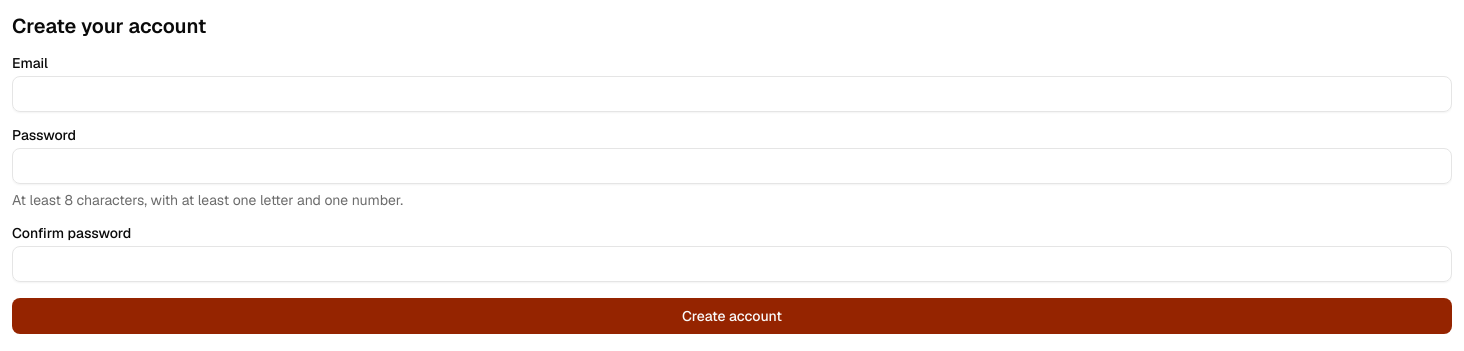
it: RegisterForm › shows the check-your-email screen with a resend-cooldown note when signUp is rate-limited on resend
In the field labelled "Email": (732, 94) [12,76,1452,112], type "recently-registered@example.com"
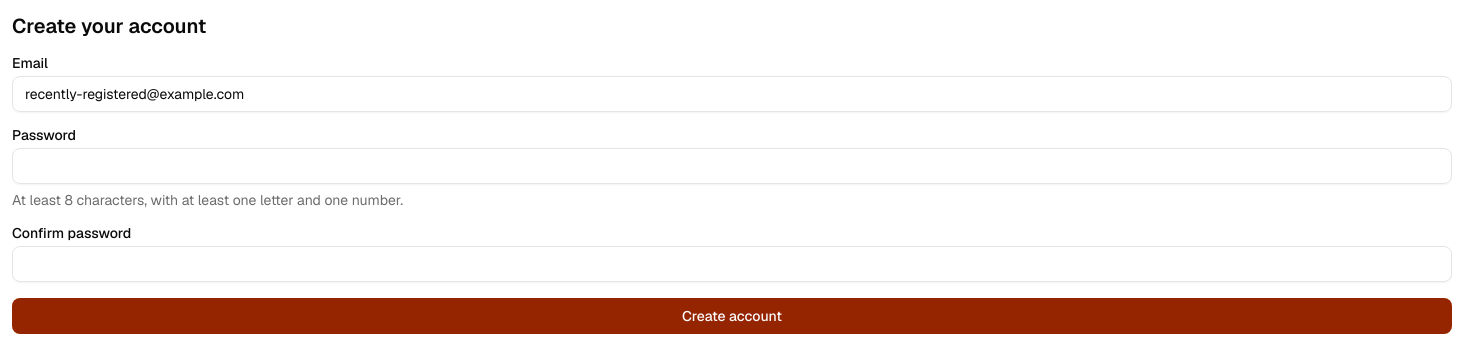
In the password field labelled "Password": (732, 166) [12,148,1452,184], type "abcd1234"
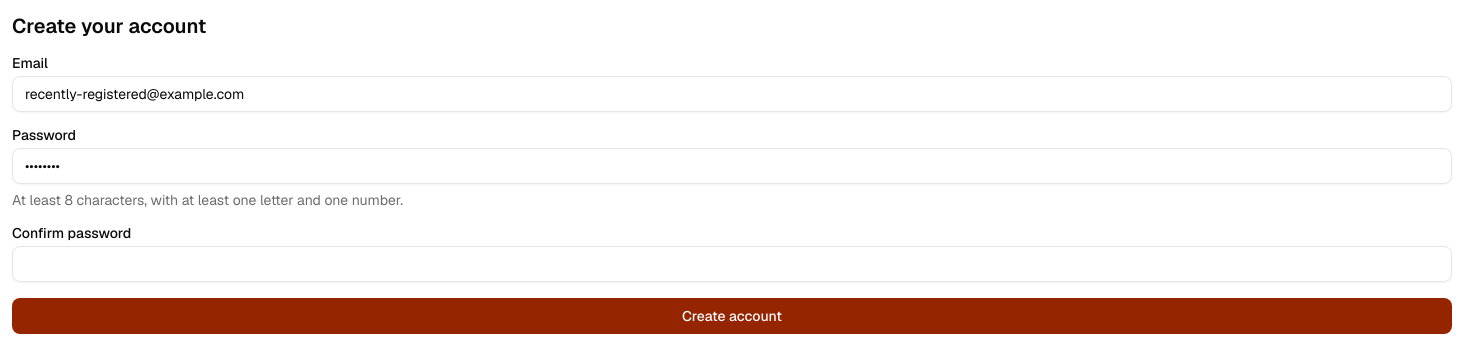
In the password field labelled "Confirm password": (732, 264) [12,246,1452,282], type "abcd1234"
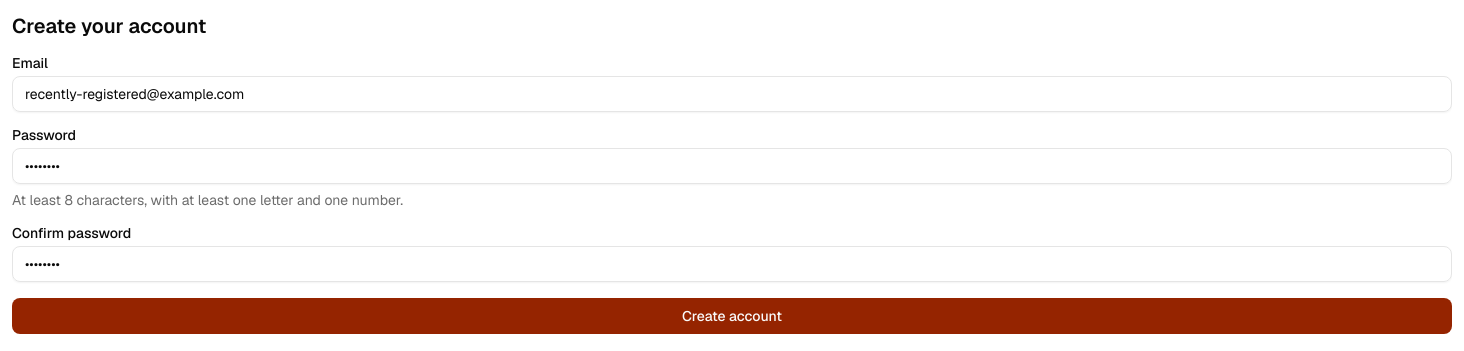
Click the button "Create account": (732, 316) [12,298,1452,334]
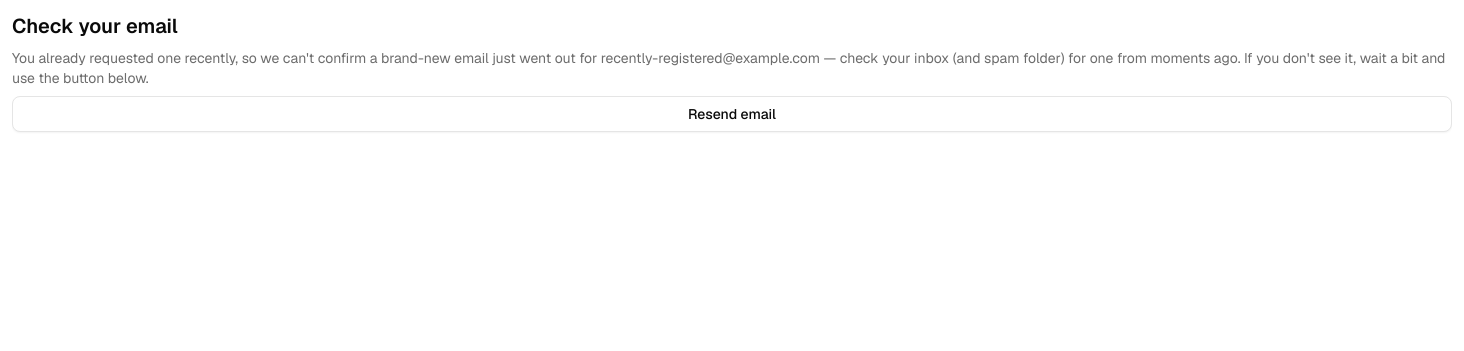
Check: the heading "Check your email" is shown, box [12,13,178,39]
Check: the text "already requested one recently" is shown, box [12,49,601,67]
